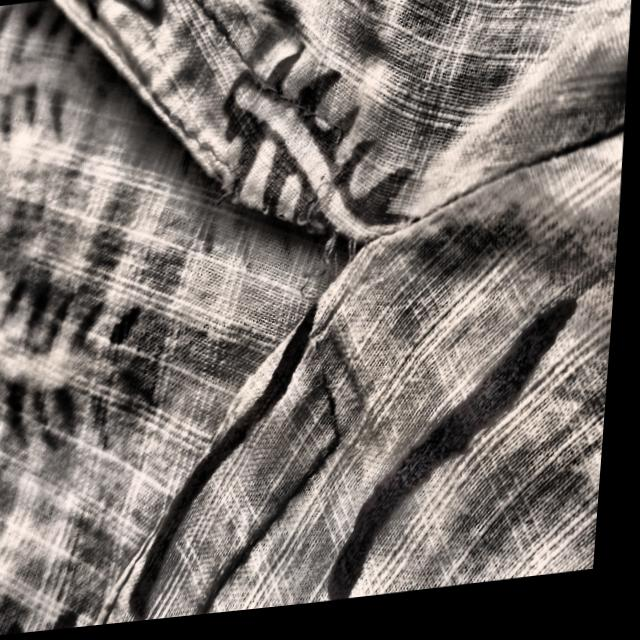Stitch: (280, 91, 368, 345), (205, 152, 257, 217)
